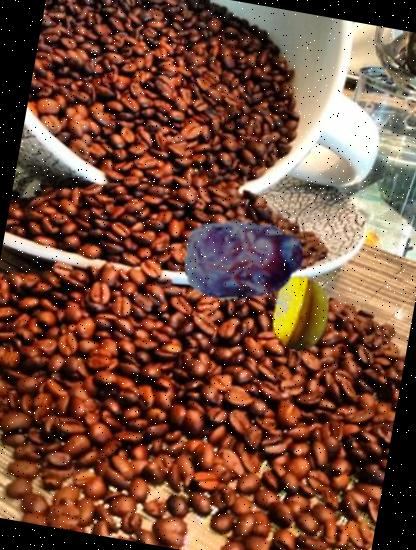Carambula: (258, 269, 345, 356)
Dates: (174, 191, 312, 330)
